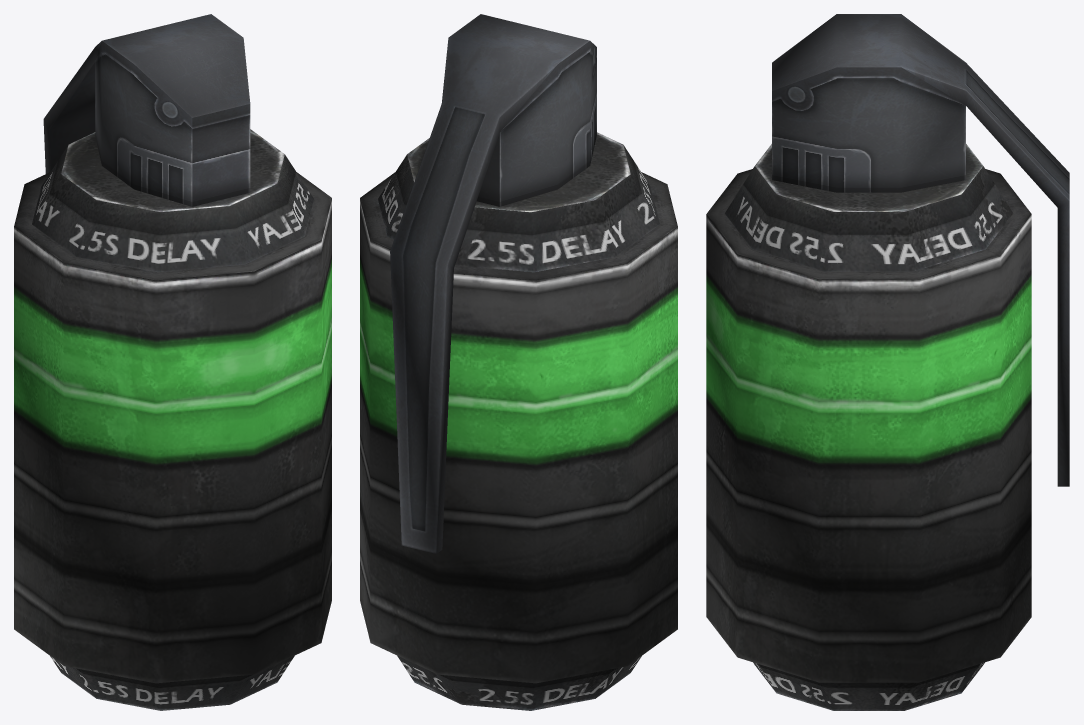
File: frag_grenade.fbx
3 views of the same model, side by side, from view 1: azimuth 30°, elevation 25°; view 2: azimuth 150°, elevation 25°; view 3: azimuth 270°, elevation 25° (orthographic).
Parts seen in each view (by area): view 1: frag_grenade; view 2: frag_grenade; view 3: frag_grenade.
Boxes of the visible parts, box(x1,y1,x2,y2) form: frag_grenade: box(14, 14, 331, 710); frag_grenade: box(360, 14, 677, 710); frag_grenade: box(706, 14, 1069, 710).
Size of the model in its own units: 1.9 by 4.24 by 2.23.
